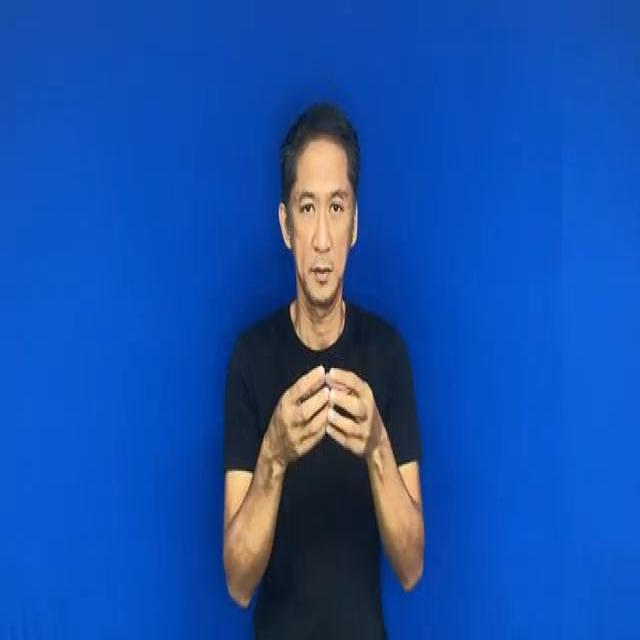egg: (263, 358, 397, 479)
